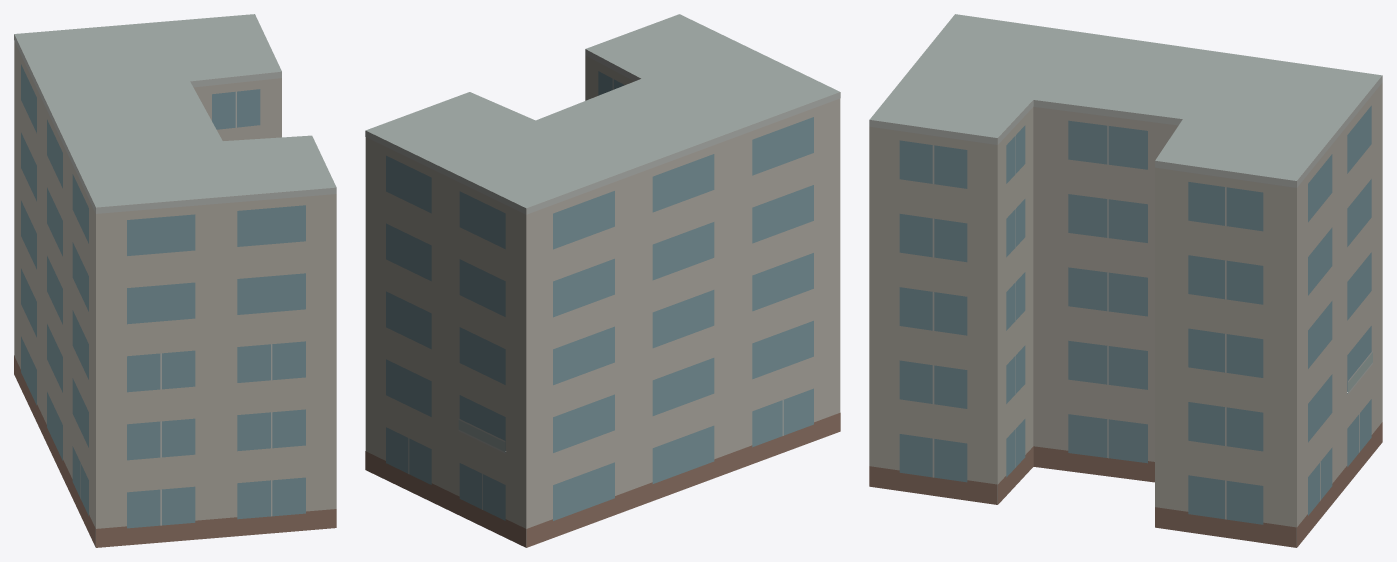
File: survey-upis-32869781.glb
The picture shows the model from 3 angles, left to right: view 1: azimuth 30°, elevation 25°; view 2: azimuth 150°, elevation 25°; view 3: azimuth 270°, elevation 25°; orthographic projection. The views are drawn at different scales.
Visible parts, largest first — view 1: survey-upis-32869781.tmp; view 2: survey-upis-32869781.tmp; view 3: survey-upis-32869781.tmp.
Part boxes in pixels (x1,y1,x2,y2): survey-upis-32869781.tmp: (14, 14, 336, 547); survey-upis-32869781.tmp: (365, 14, 840, 547); survey-upis-32869781.tmp: (869, 14, 1382, 547).
Size of the model in its own units: 12.71 by 13 by 16.49.
